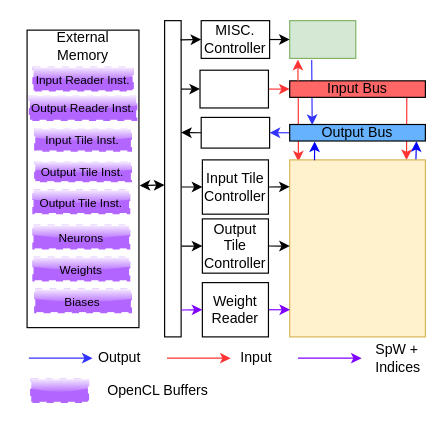
The diagram is 447 pixels wide and 424 high, and some of its shapes have lost their labels. Each missing label, with the box of its shape:
CONV. Engine: (289, 159, 425, 337)
External Memory Interconnect: (163, 19, 181, 337)
Input Reader: (199, 69, 268, 108)
MISC. Engine: (289, 19, 356, 58)
Output Writer: (200, 116, 270, 148)
